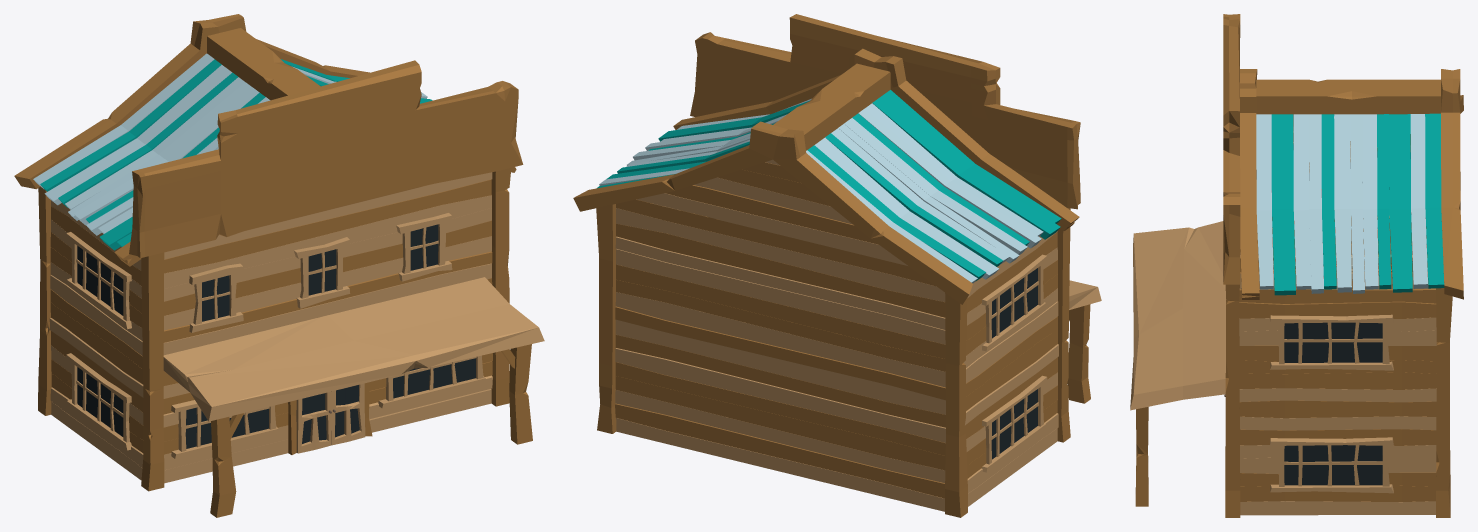
File: Building_Bank.fbx
The picture shows the model from 3 angles, left to right: view 1: azimuth 30°, elevation 25°; view 2: azimuth 150°, elevation 25°; view 3: azimuth 270°, elevation 25°; orthographic projection.
Visible parts, largest first — view 1: Building_Bank; view 2: Building_Bank; view 3: Building_Bank.
Boxes of the visible parts, x1,y1,x2,y2 form: Building_Bank: (14,14,544,517); Building_Bank: (573,14,1101,517); Building_Bank: (1130,14,1463,517).
Size of the model in its own units: 1061 by 761 by 913.
